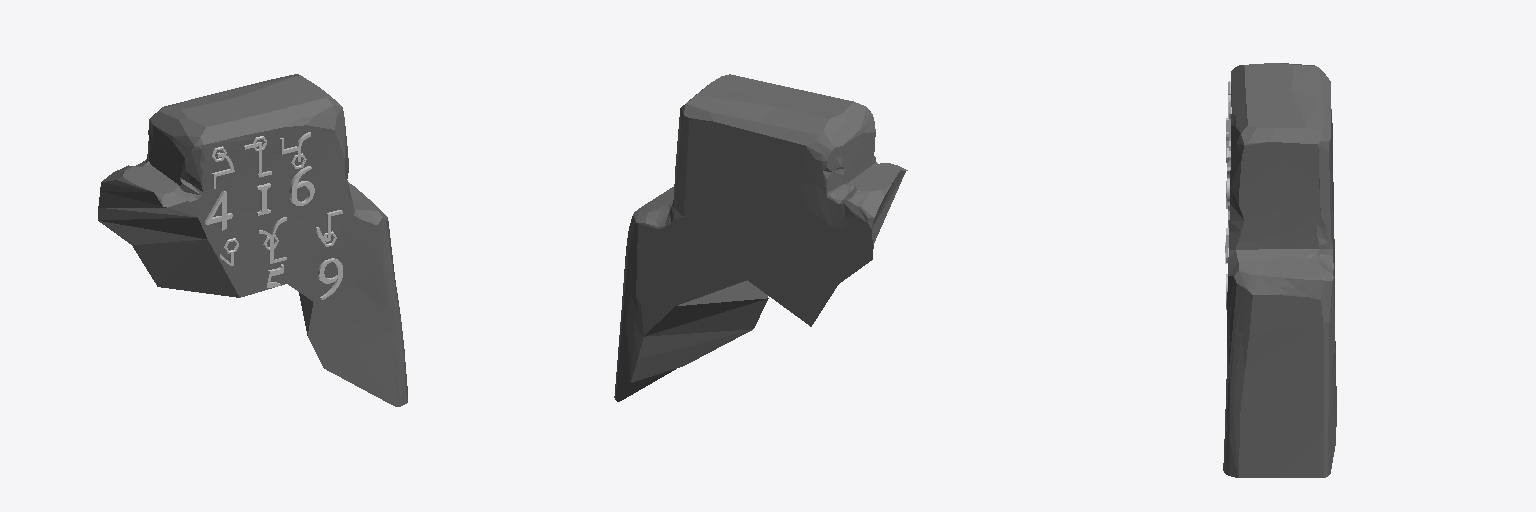
The model's file is runeTafelSpliter1.obj.
3 renders of one model, left to right at view 1: azimuth 30°, elevation 25°; view 2: azimuth 150°, elevation 25°; view 3: azimuth 270°, elevation 25°, orthographic.
Parts seen in each view (by area): view 1: Cliff_Desert_01_Untitled.006; view 2: Cliff_Desert_01_Untitled.006; view 3: Cliff_Desert_01_Untitled.006.
Boxes of the visible parts, x1=… form: Cliff_Desert_01_Untitled.006: x1=98, y1=74, x2=407, y2=406; Cliff_Desert_01_Untitled.006: x1=614, y1=74, x2=907, y2=401; Cliff_Desert_01_Untitled.006: x1=1223, y1=63, x2=1336, y2=477.
Bounding box in the file's own units: 41.96 × 48.11 × 15.68.